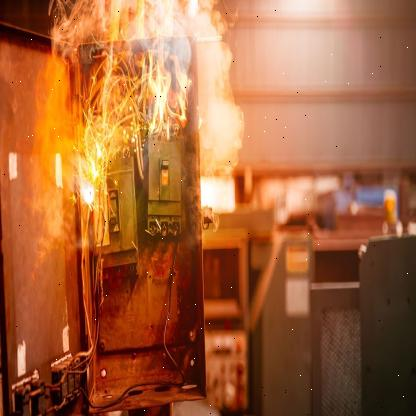fire: (39, 55, 176, 254), (71, 140, 113, 221)
smoke: (109, 0, 231, 153)
